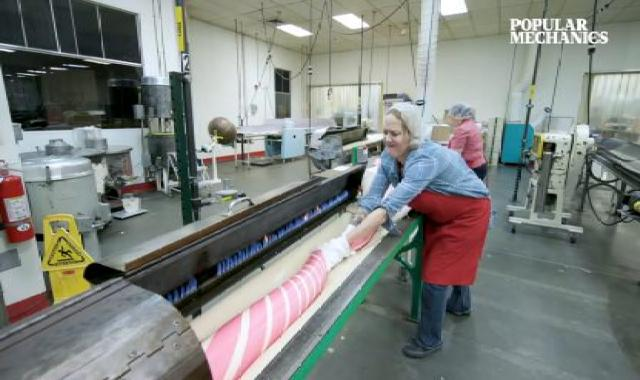hairnet: (370, 98, 433, 157), (444, 105, 486, 127)
